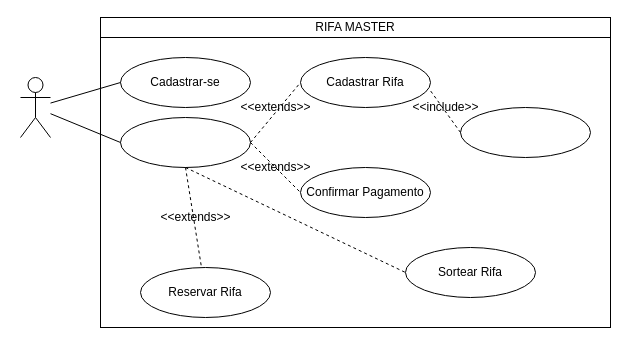
This 628x345 diagram has some shape labels left out. Each missing label, with the box of its shape:
Cadastrar Premio: (460, 106, 590, 158)
Cliente: (20, 76, 50, 138)
Fazer login: (120, 116, 250, 168)
